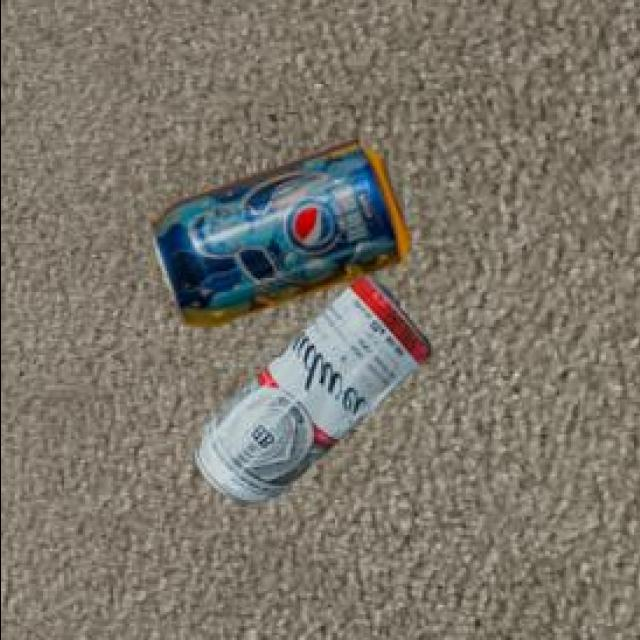logam: (193, 274, 426, 499), (146, 134, 405, 324)
